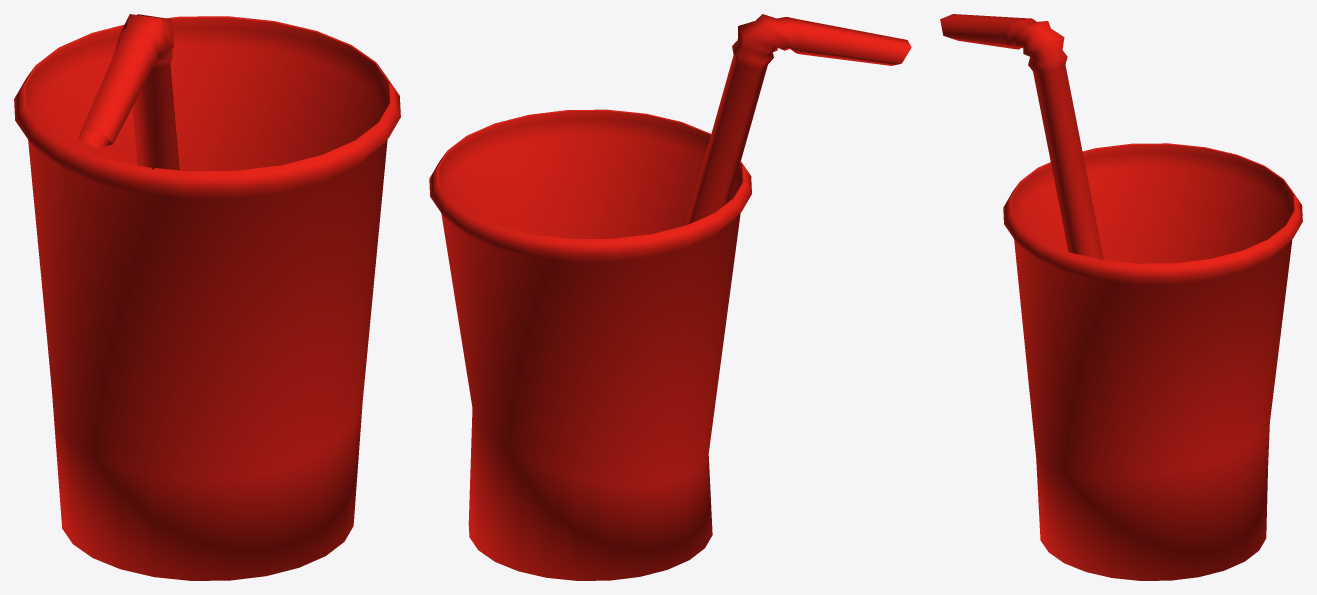
The model's file is Cup.fbx.
The picture shows the model from 3 angles, left to right: view 1: azimuth 30°, elevation 25°; view 2: azimuth 150°, elevation 25°; view 3: azimuth 270°, elevation 25°; orthographic projection. The views are drawn at different scales.
Visible parts, largest first — view 1: Cup.001; view 2: Cup.001; view 3: Cup.001.
Boxes of the visible parts, x1,y1,x2,y2 form: Cup.001: [14, 14, 400, 580]; Cup.001: [429, 14, 911, 580]; Cup.001: [940, 14, 1302, 580].
Size of the model in its own units: 23.03 by 30.7 by 22.08.
